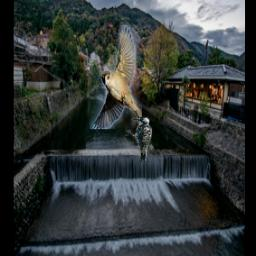Sparrow: (90, 26, 142, 130)
Woodpecker: (125, 117, 153, 163)
